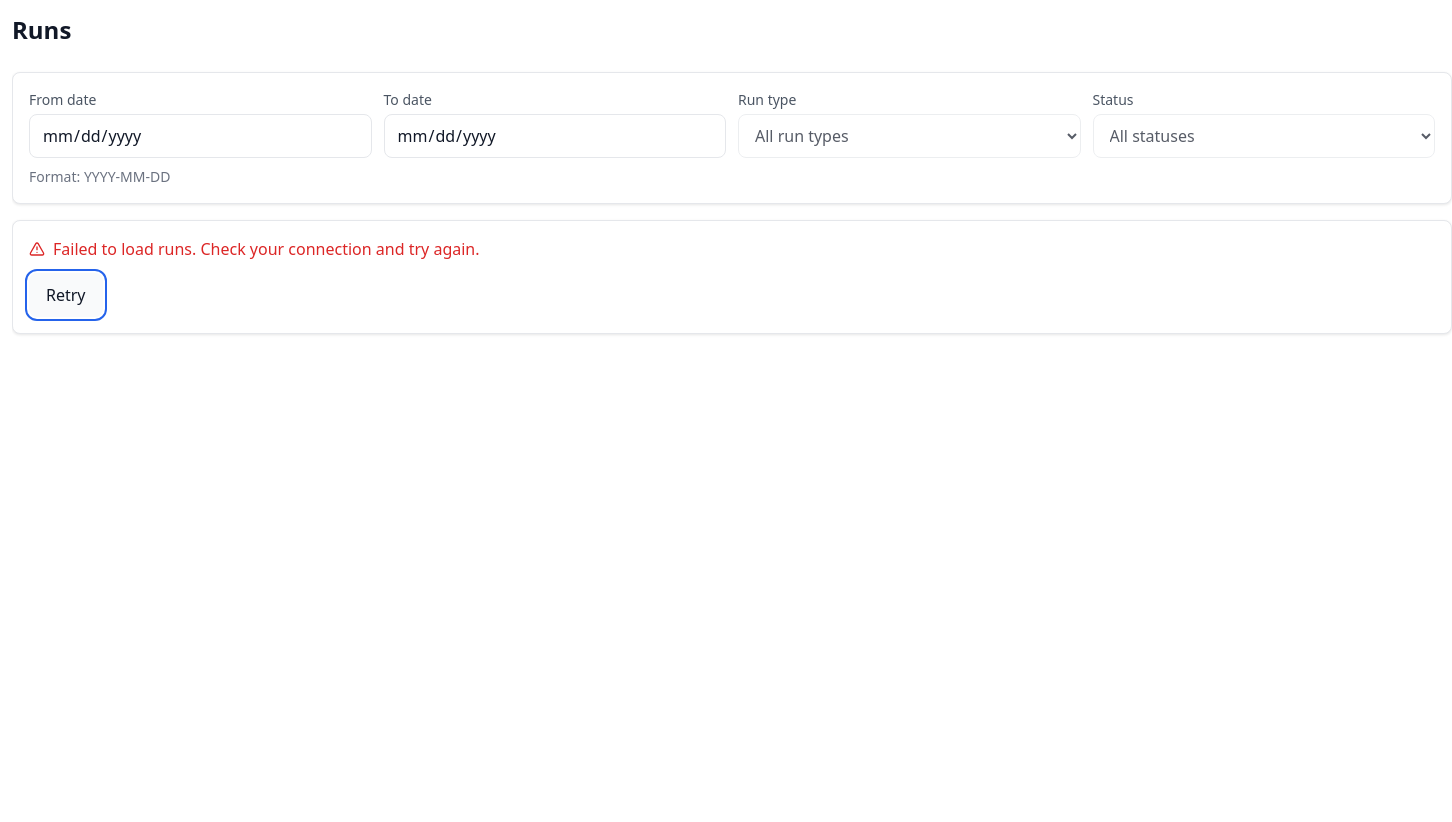
Test case: RunsView › stays in the fetch error state and re-enables retry when retry also fails
Click the button "Retry".
click(66, 295)  # box [29,273,102,317]
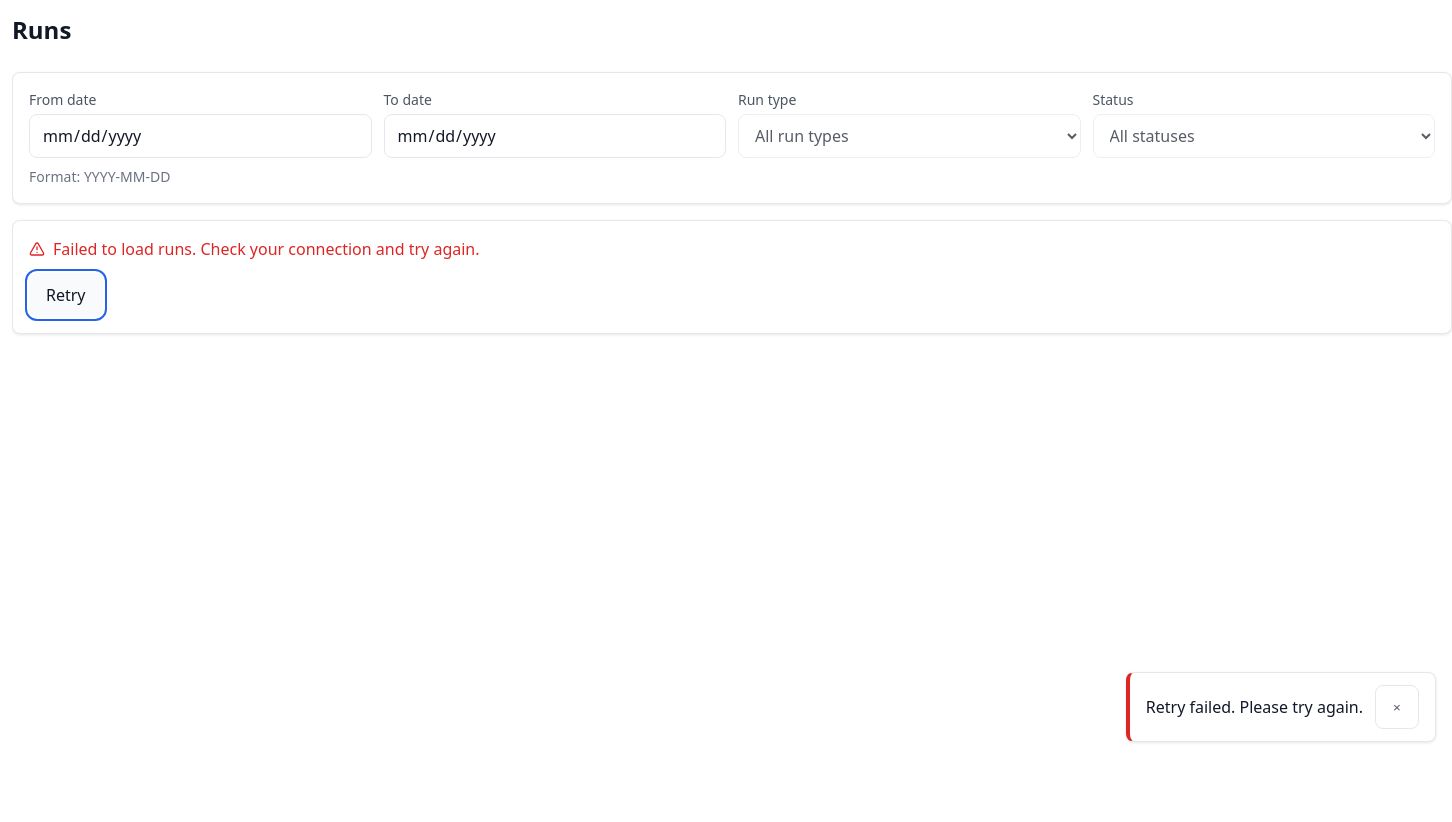
Expected: the text "Failed to load runs. Check your connection and try again." is shown, [29,237,480,261]
Expected: the message with class "toast" shows "Retry failed. Please try again.", [1146,696,1363,718]
